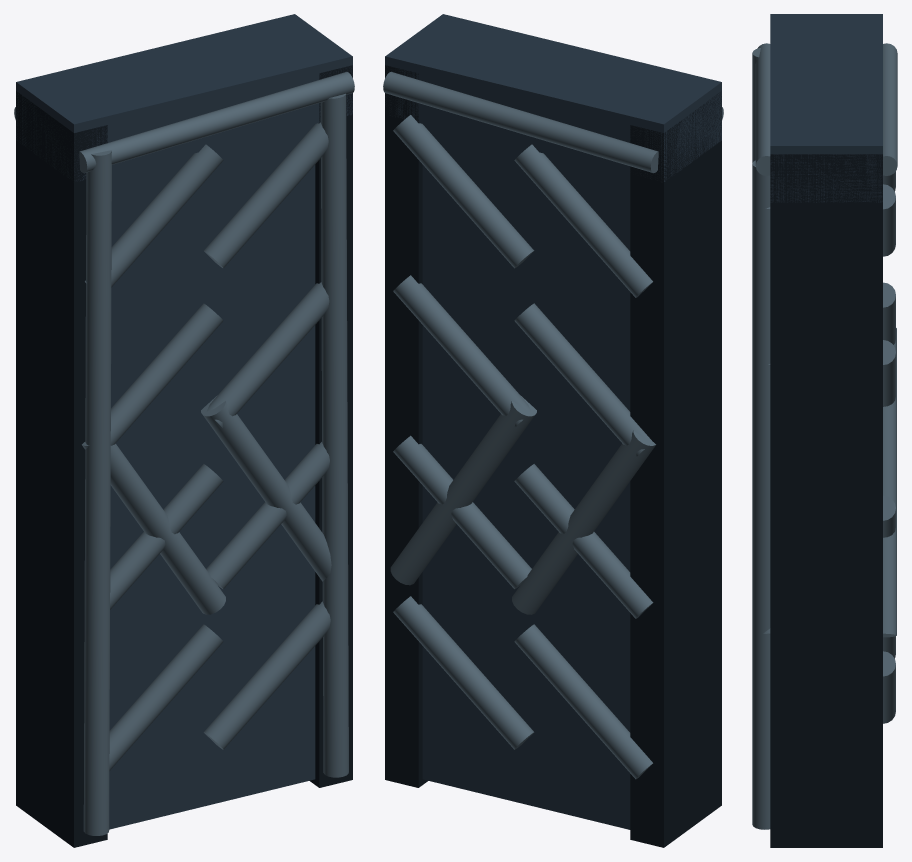
The model's file is CMU3DHiveDoorXenoResin.glb.
3 views of the same model, side by side, from view 1: azimuth 30°, elevation 25°; view 2: azimuth 150°, elevation 25°; view 3: azimuth 270°, elevation 25° (orthographic). The views are drawn at different scales.
Parts seen in each view (by area): view 1: retracting organic leaf (×2), solid resin jamb (×2), jamb tendon (×2), leaf sweeping tendon (×8), resin lintel, branching membrane seam (×2), lintel rib; view 2: retracting organic leaf (×2), solid resin jamb (×2), leaf sweeping tendon (×8), resin lintel, branching membrane seam (×2), lintel rib; view 3: solid resin jamb, resin lintel, jamb tendon (×2), lintel rib (×2), leaf sweeping tendon (×5), branching membrane seam.
Boxes of the visible parts, <box> form: retracting organic leaf (×2): <box>109,124,315,829</box>; solid resin jamb (×2): <box>16,65,352,847</box>; jamb tendon (×2): <box>83,93,348,835</box>; leaf sweeping tendon (×8): <box>85,122,330,770</box>; resin lintel: <box>16,14,352,181</box>; branching membrane seam (×2): <box>82,395,331,614</box>; lintel rib: <box>79,71,354,173</box>; retracting organic leaf (×2): <box>422,124,630,829</box>; solid resin jamb (×2): <box>385,65,721,847</box>; leaf sweeping tendon (×8): <box>393,115,653,779</box>; resin lintel: <box>385,14,721,182</box>; branching membrane seam (×2): <box>390,395,655,614</box>; lintel rib: <box>383,71,658,173</box>; solid resin jamb: <box>770,154,882,847</box>; resin lintel: <box>770,14,882,202</box>; jamb tendon (×2): <box>752,48,770,829</box>; lintel rib (×2): <box>755,43,897,175</box>; leaf sweeping tendon (×5): <box>883,184,895,723</box>; branching membrane seam: <box>883,385,896,637</box>.
Bounding box in the file's own units: 1 × 2.48 × 0.465.
